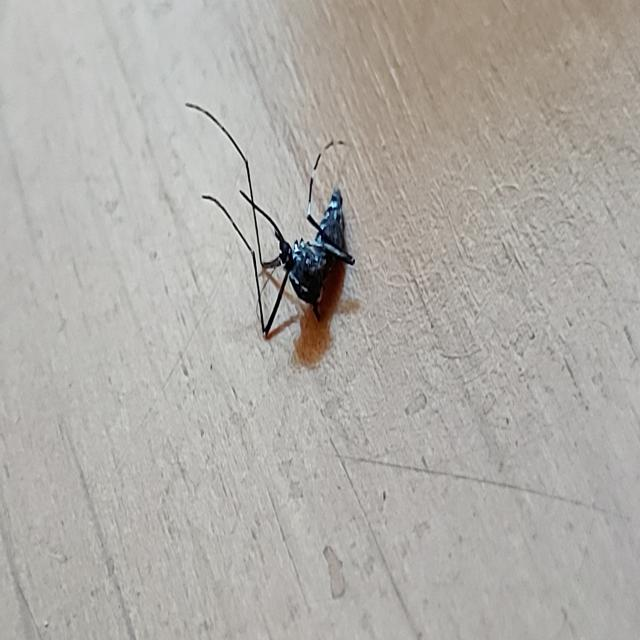albopictus: (184, 85, 359, 352)
